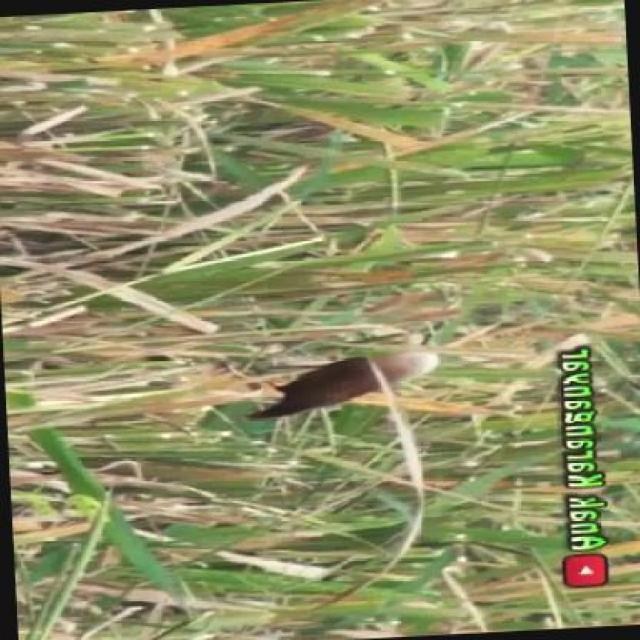Bird: (228, 312, 472, 427)
